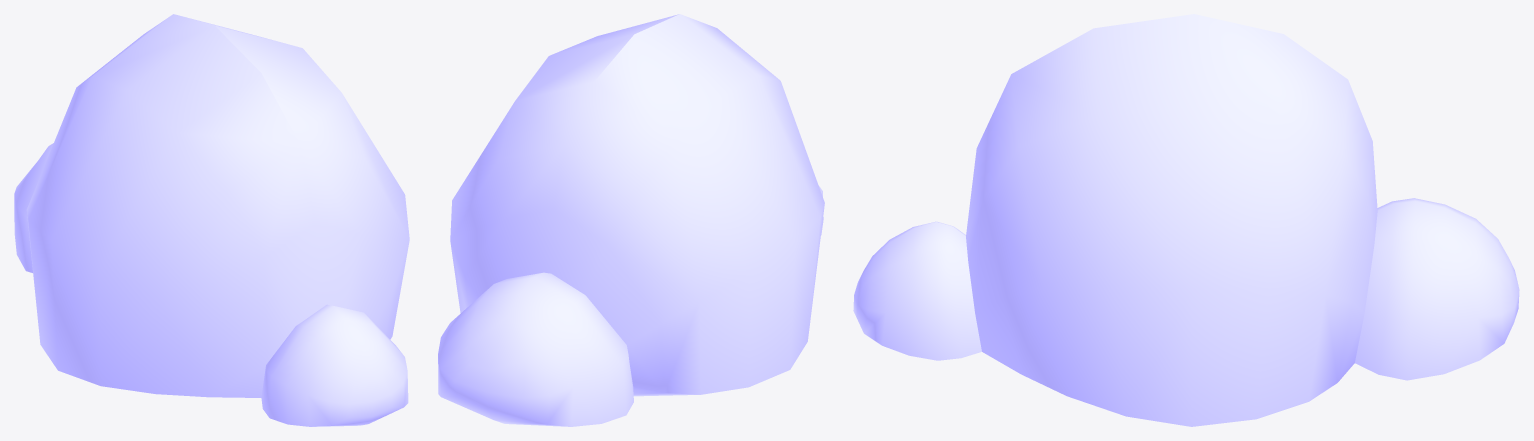
File: Cloud03.fbx
3 views of the same model, side by side, from view 1: azimuth 30°, elevation 25°; view 2: azimuth 150°, elevation 25°; view 3: azimuth 270°, elevation 25° (orthographic). The views are drawn at different scales.
Visible parts, largest first — view 1: Cloud03; view 2: Cloud03; view 3: Cloud03.
Part boxes in pixels (<box>): Cloud03: <box>14,14,409,426</box>; Cloud03: <box>438,14,824,426</box>; Cloud03: <box>853,14,1519,426</box>.
Bounding box in the file's own units: 383 × 389 × 624.
